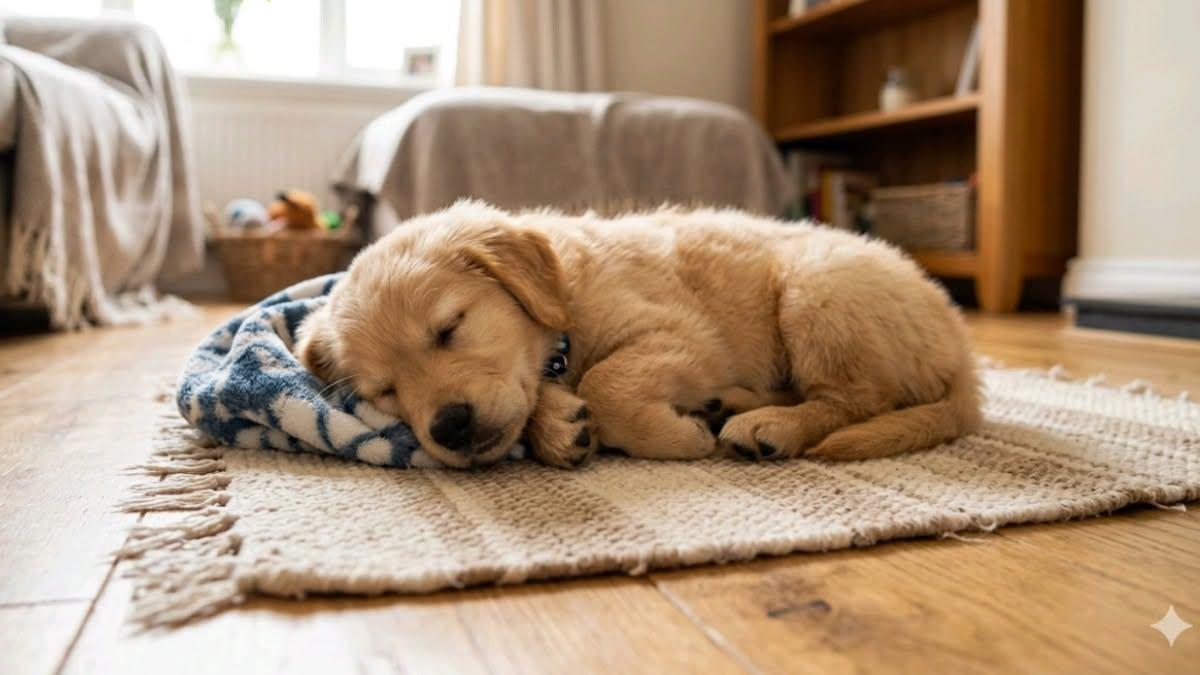puppy-dog: (292, 198, 984, 471)
